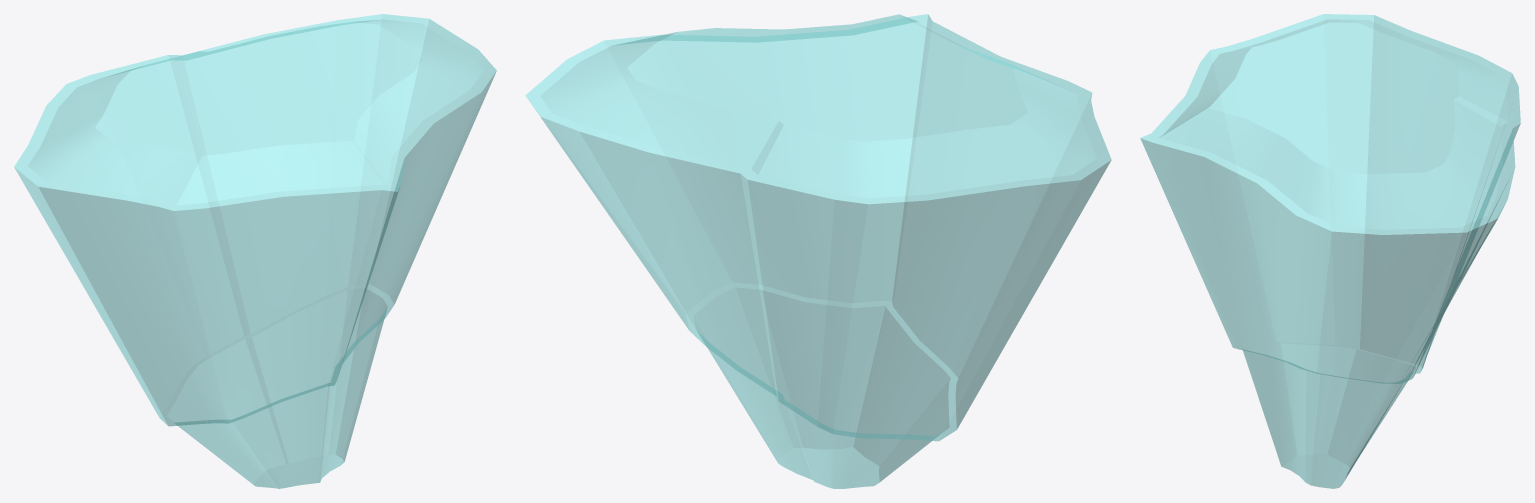
File: Rock_Large_Ice_Iceberg_01.fbx
3 views of the same model, side by side, from view 1: azimuth 30°, elevation 25°; view 2: azimuth 150°, elevation 25°; view 3: azimuth 270°, elevation 25° (orthographic). The views are drawn at different scales.
Parts seen in each view (by area): view 1: Rock_Large_Ice_Iceberg_01; view 2: Rock_Large_Ice_Iceberg_01; view 3: Rock_Large_Ice_Iceberg_01.
Boxes of the visible parts, x1,y1,x2,y2 form: Rock_Large_Ice_Iceberg_01: [14, 14, 496, 488]; Rock_Large_Ice_Iceberg_01: [525, 14, 1111, 488]; Rock_Large_Ice_Iceberg_01: [1140, 14, 1520, 488].
Size of the model in its own units: 165 by 127 by 120.
